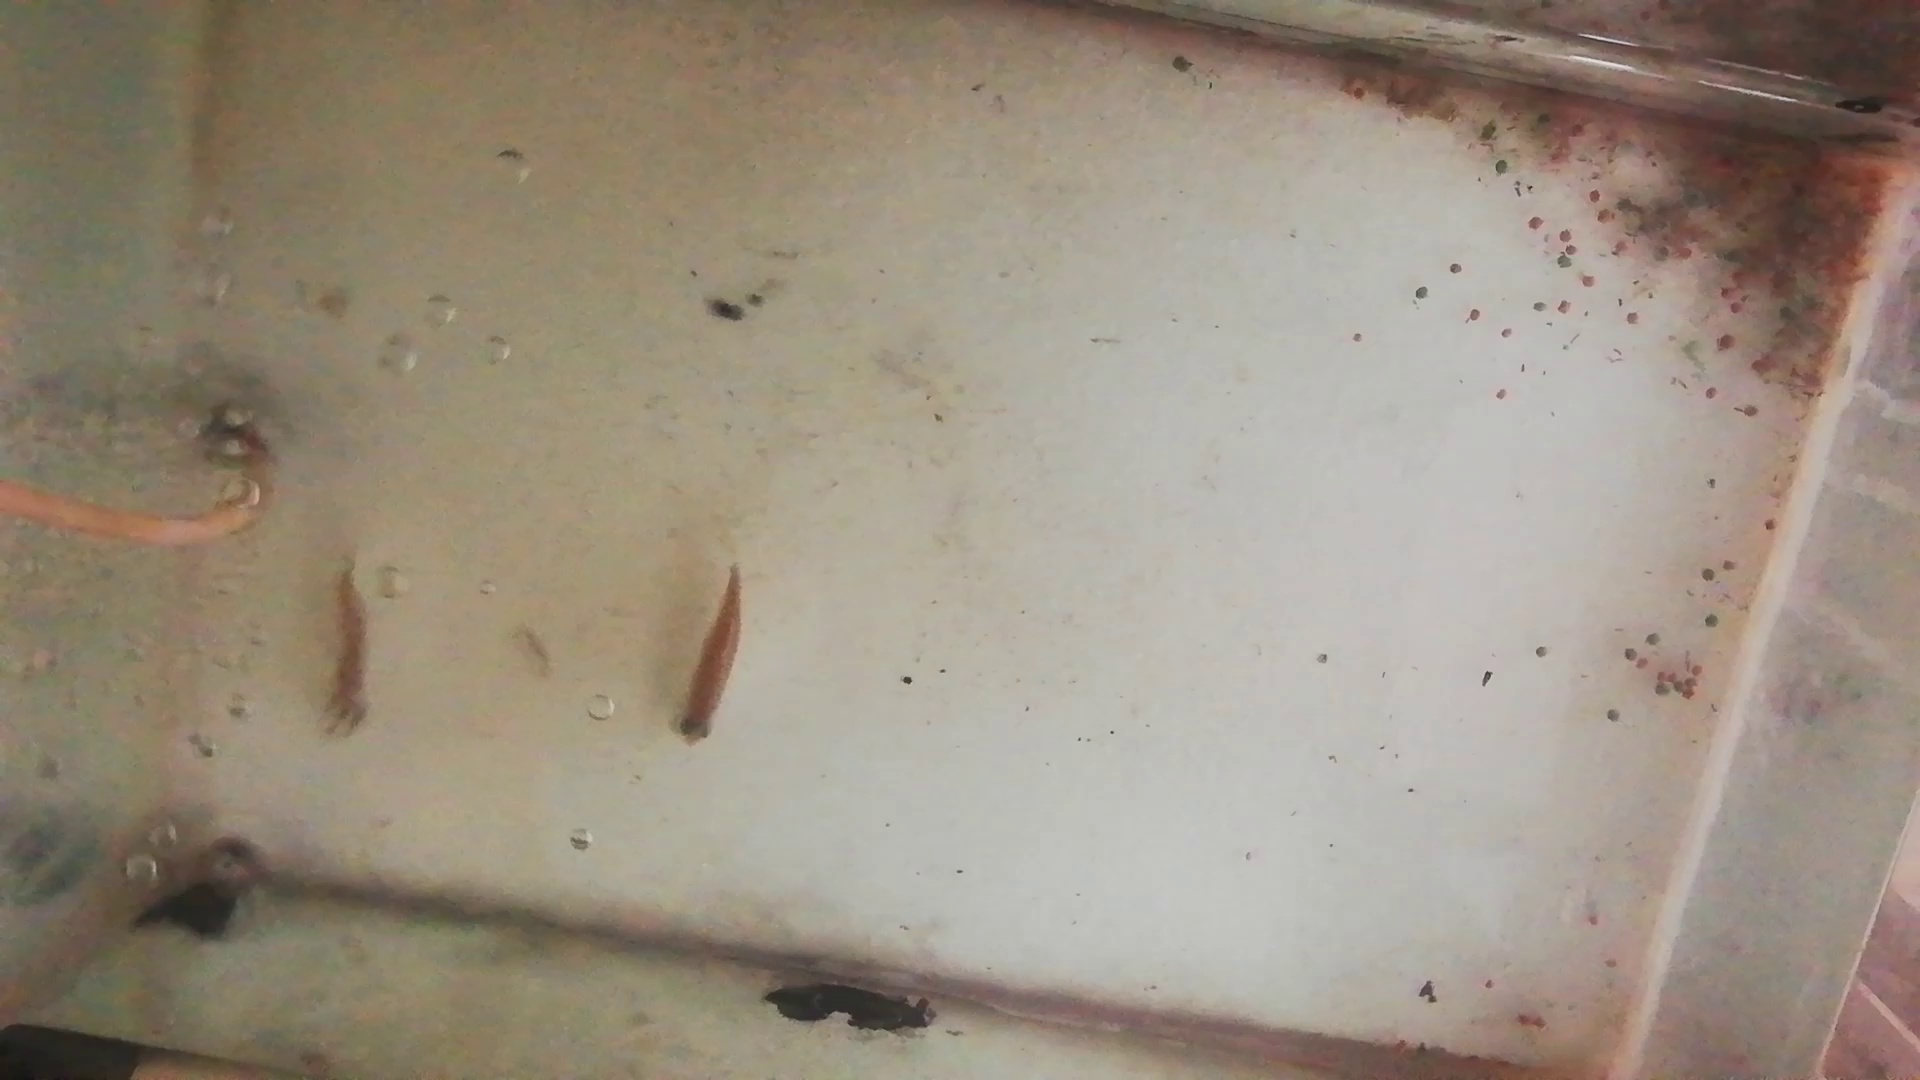fish: (669, 568, 756, 752), (320, 564, 378, 746)
